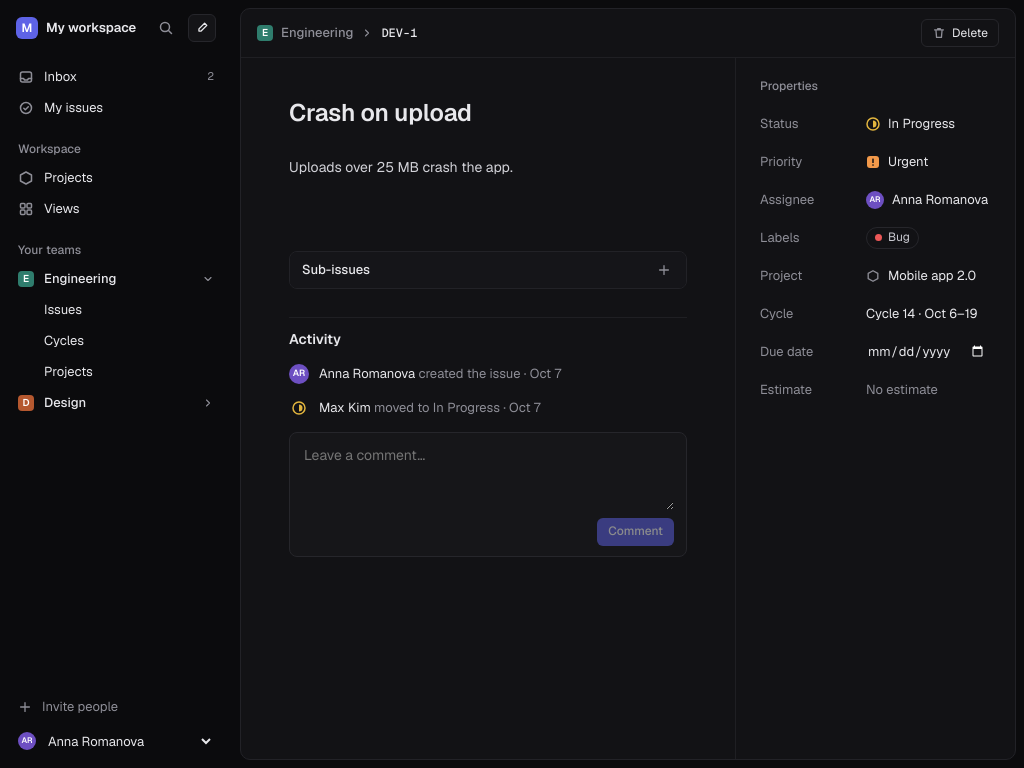
IssuePage › does not save a blank title
The image size is (1024, 768).
Clear the field named "Issue title". click: (488, 113)
box: top-left (289, 98), bottom-right (687, 128)
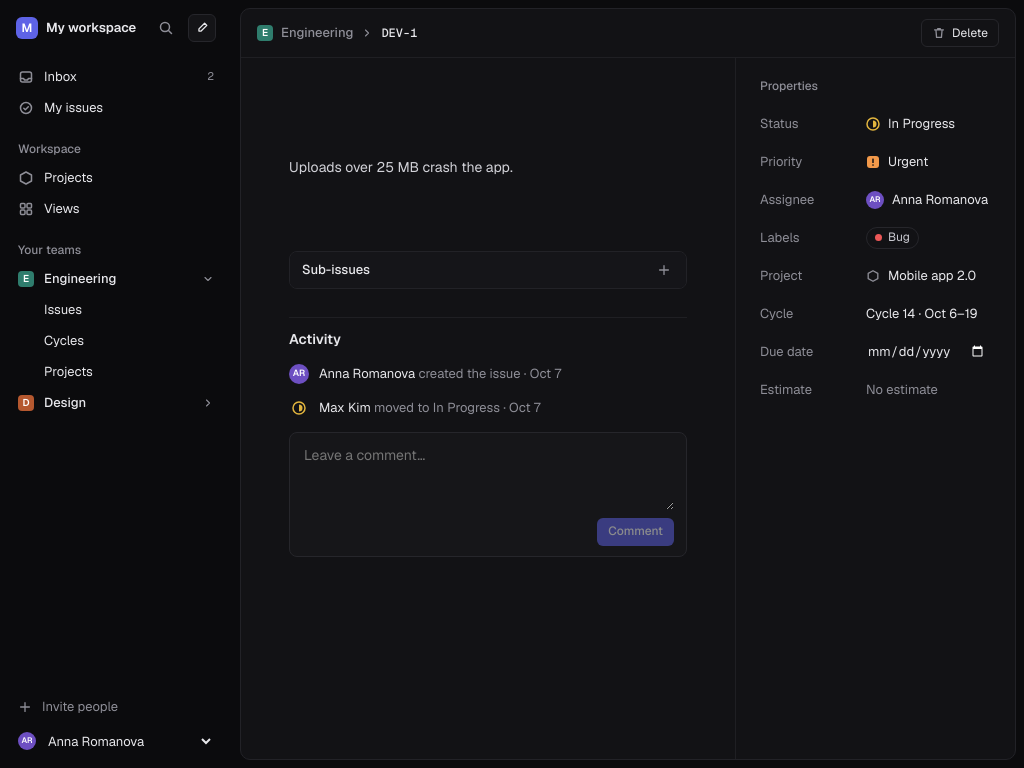
Press Tab
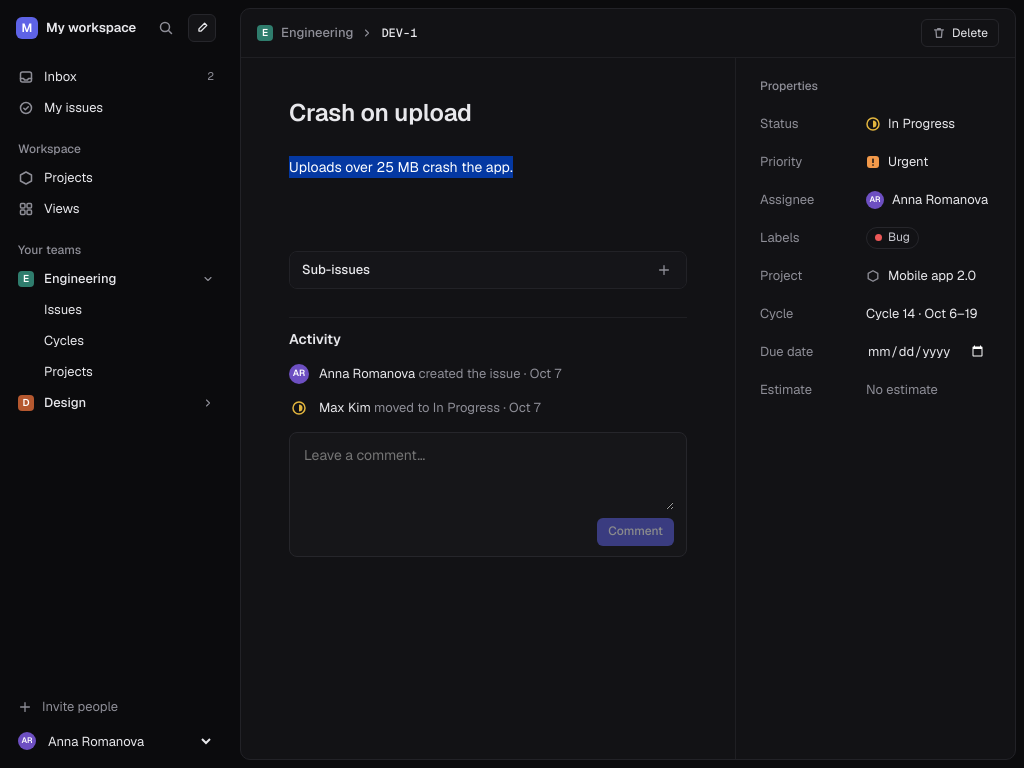
Now the field named "Issue title" holds "Crash on upload", box top-left (289, 98), bottom-right (687, 128)
